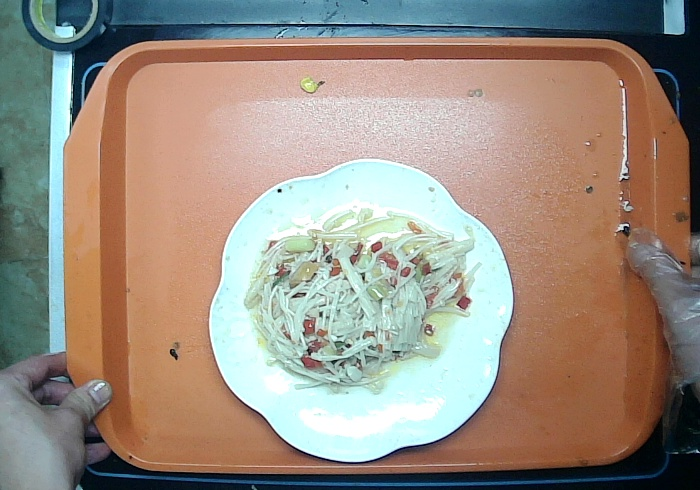HZYJPL-Bai_Se_Hua_Duo_Wan: (207, 157, 515, 465)
